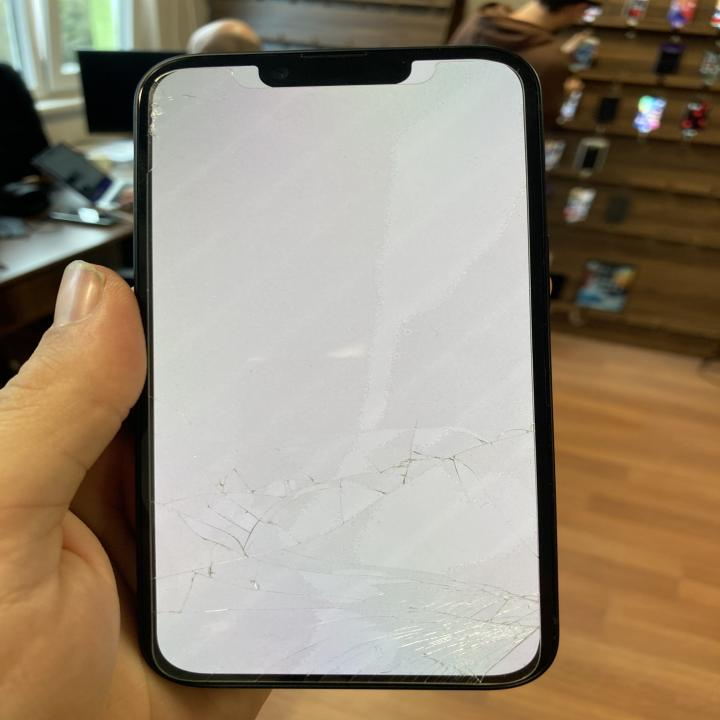Crack: (143, 438, 543, 680)
